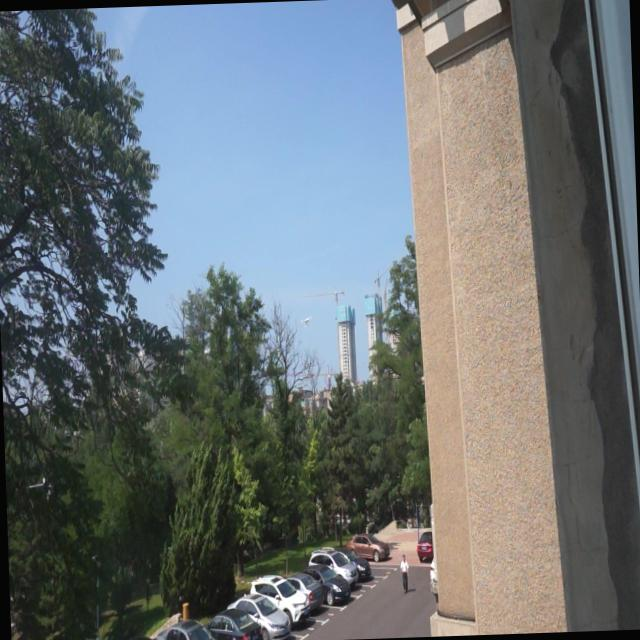drone: (300, 313, 312, 328)
